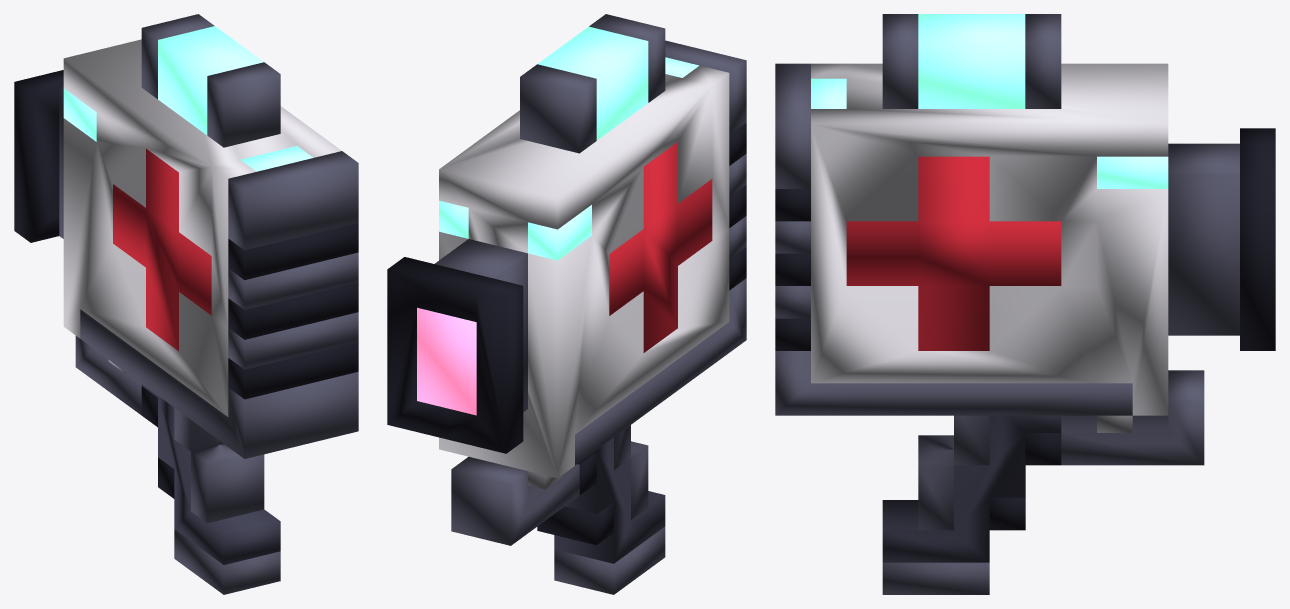
The model's file is medgun.lod1.glb.
3 renders of one model, left to right at view 1: azimuth 30°, elevation 25°; view 2: azimuth 150°, elevation 25°; view 3: azimuth 270°, elevation 25°, orthographic. The views are drawn at different scales.
Parts seen in each view (by area): view 1: medgun.body, part.canister; view 2: medgun.body, part.canister; view 3: medgun.body, part.canister.
Boxes of the visible parts, x1,y1,x2,y2 form: medgun.body: (14,39,358,594); part.canister: (141,14,280,147); medgun.body: (387,40,746,594); part.canister: (520,14,665,153); medgun.body: (775,63,1275,594); part.canister: (882,14,1061,108).
Bounding box in the file's own units: 0.125 × 0.5312 × 0.4375.
